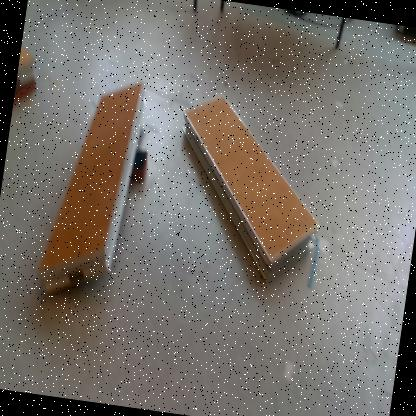Stairs: (183, 95, 320, 283), (39, 82, 148, 293), (16, 46, 35, 90)
